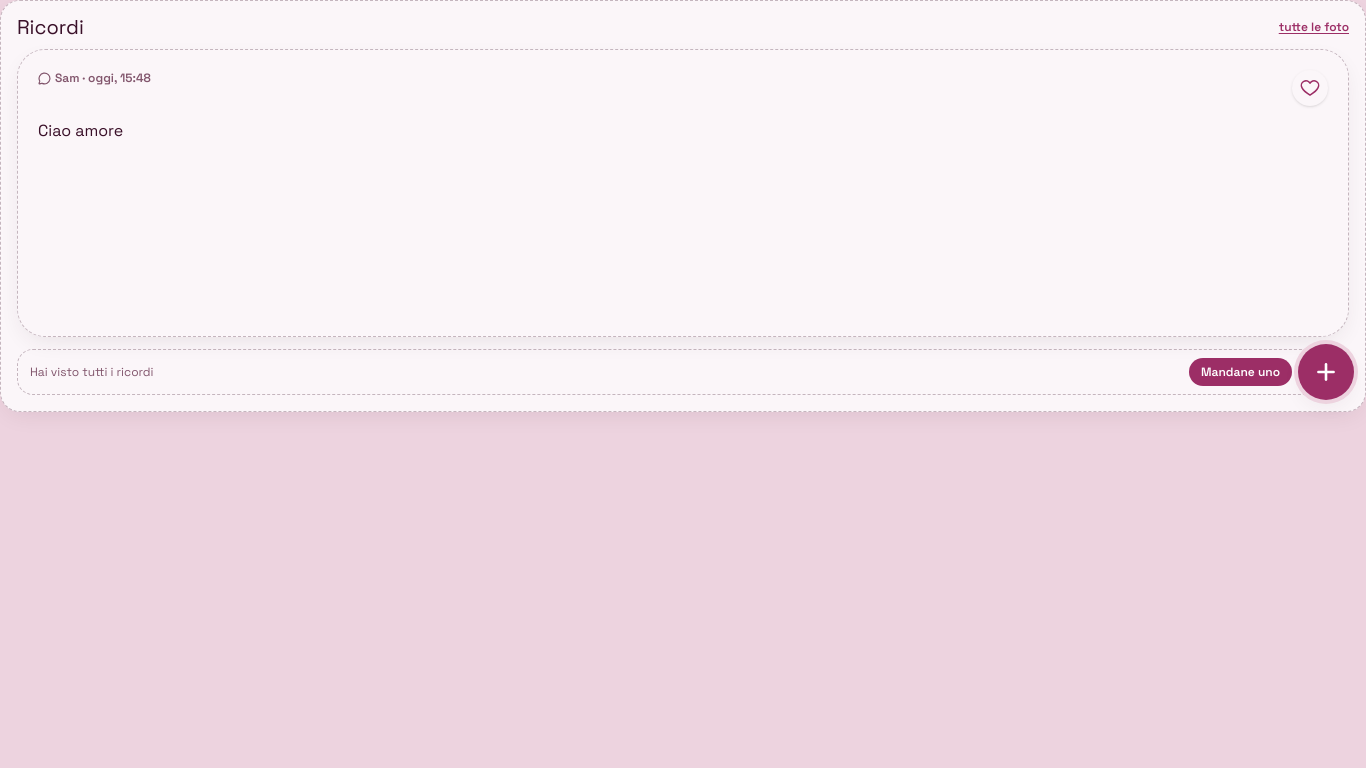
MemoriesDeck › invia un pensiero di testo e lo mostra come card in cima al mazzetto
This screenshot has width=1366, height=768.
Check: the text "Ciao amore" is shown, box [38, 120, 123, 141]
Step 1. Click the button named "Aggiungi un pensiero o una foto" → x=1326, y=372, box [1298, 344, 1354, 400]
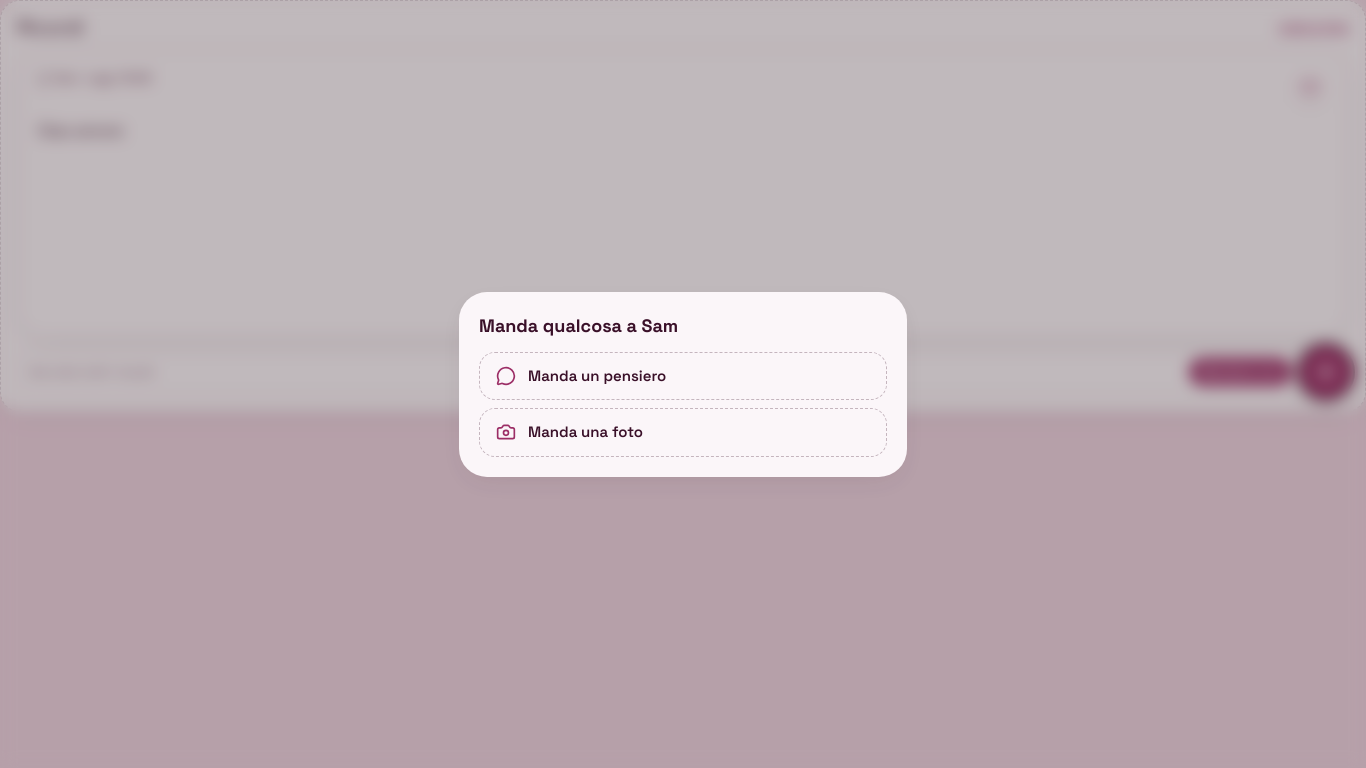
Step 2. Click the button "Manda un pensiero" → x=597, y=375, box [479, 352, 887, 400]
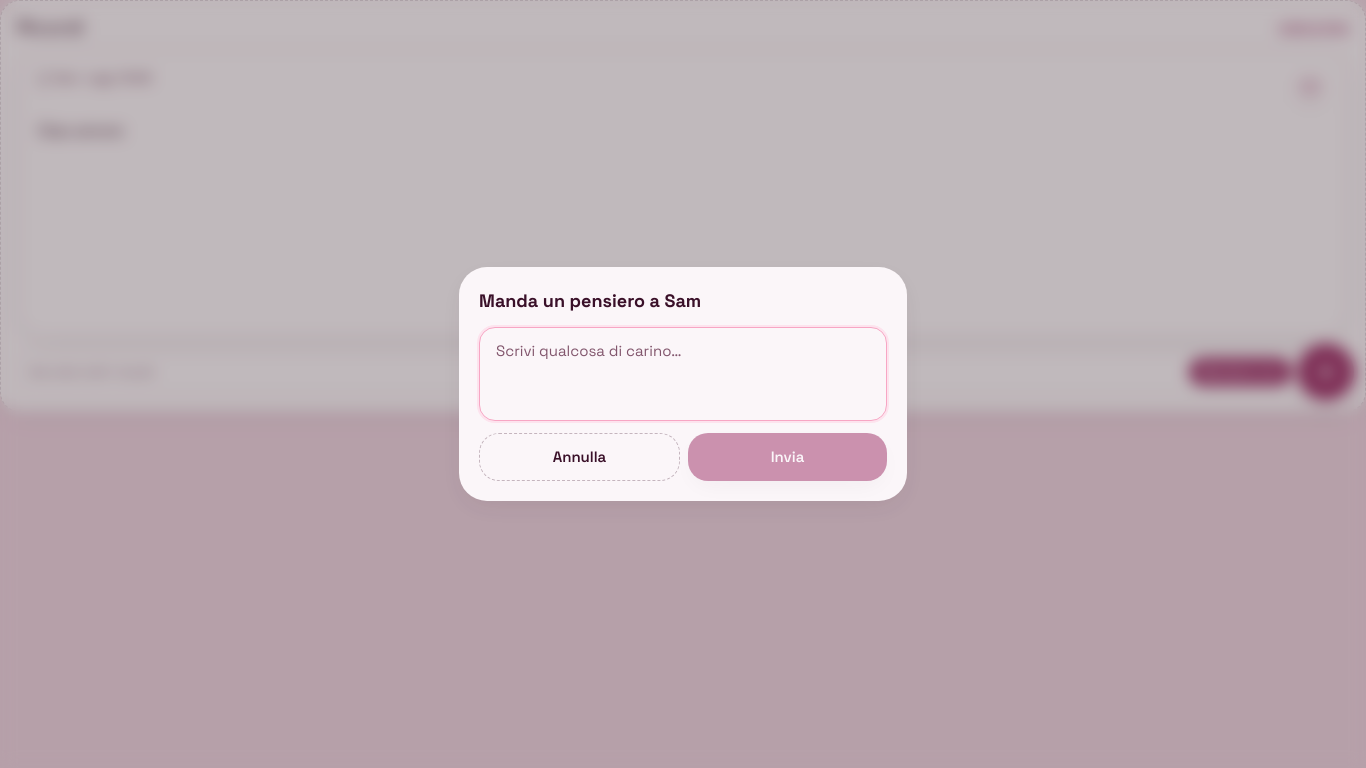
Step 3. Type "Ti penso" into the text box with placeholder "Scrivi qualcosa di carino…" → x=683, y=374, box [479, 327, 887, 421]
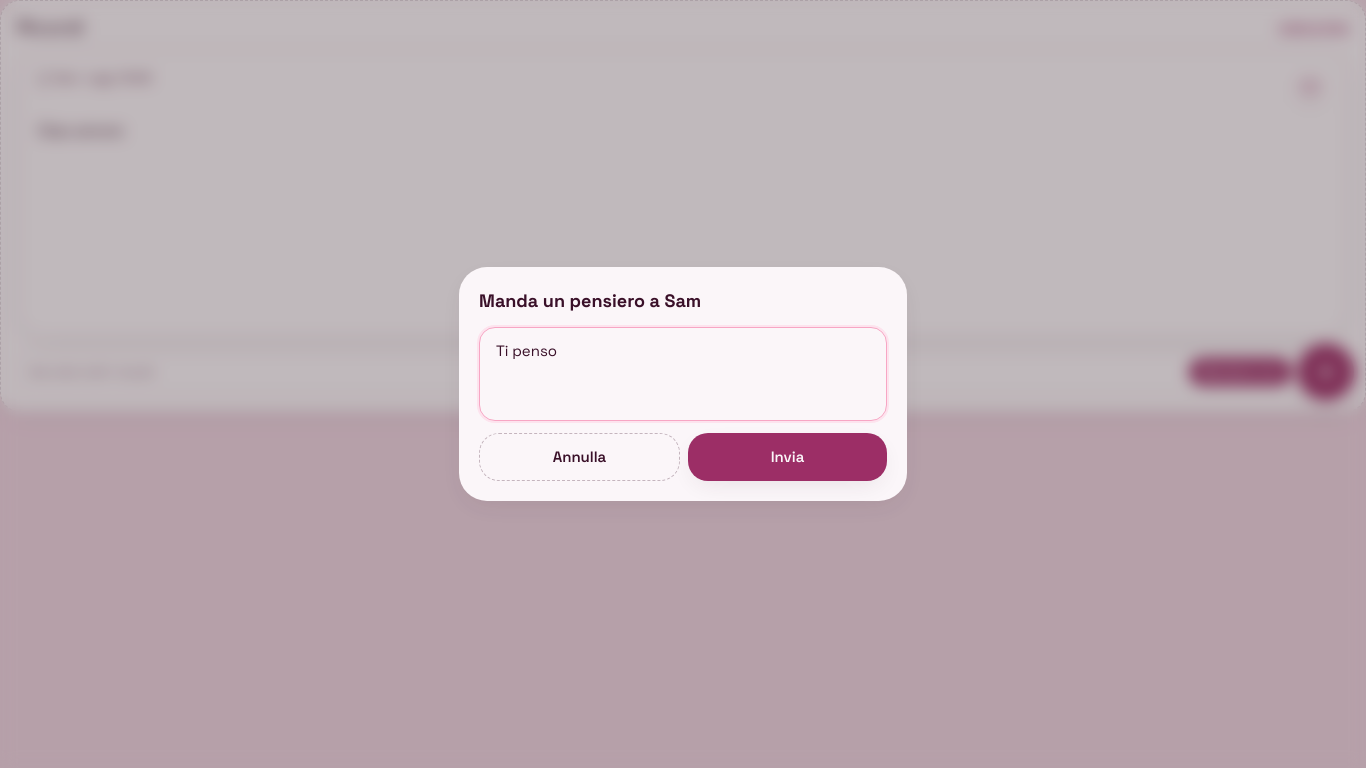
Step 4. Click the button "Invia" → x=788, y=457, box [688, 433, 887, 481]
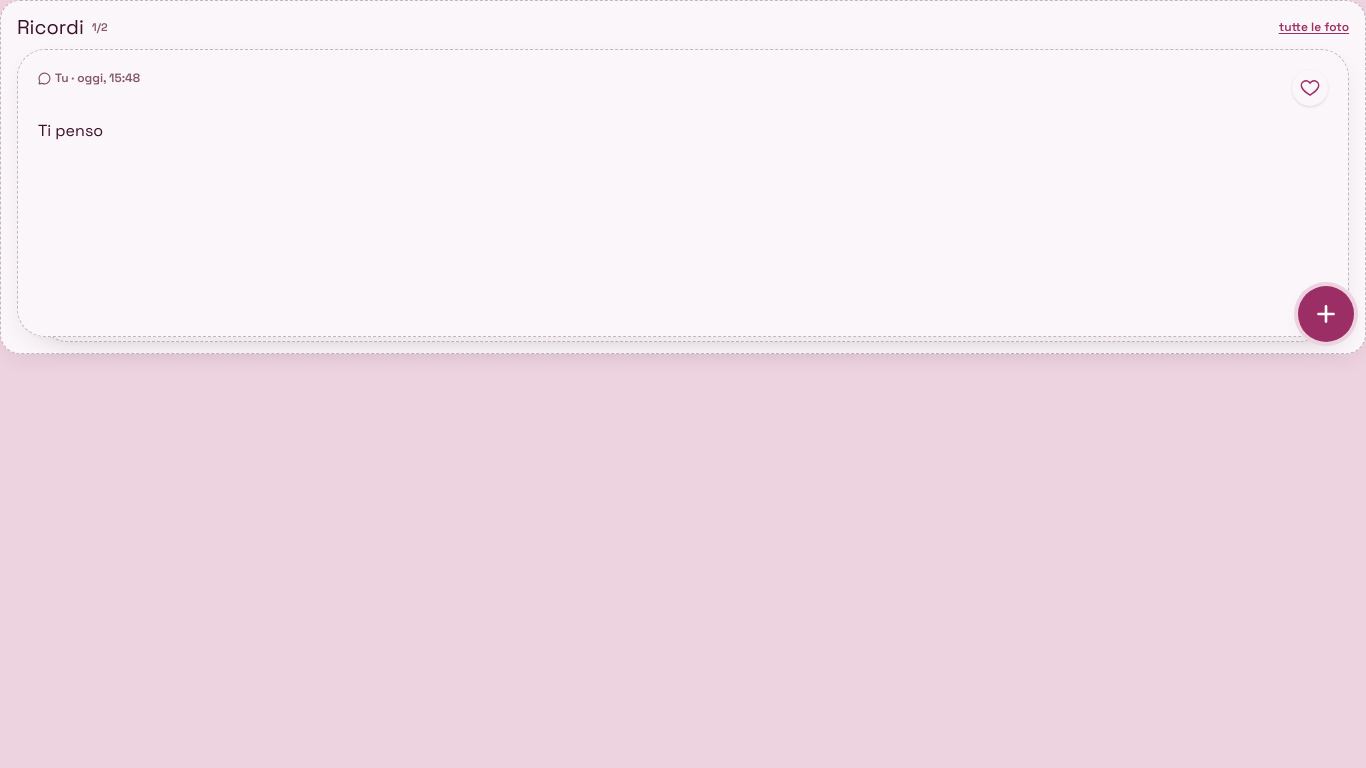
Check: the field with placeholder "Scrivi qualcosa di carino…" is not shown
Check: the element with test id "memory-card" shows "Ti penso", box [38, 120, 103, 141]
